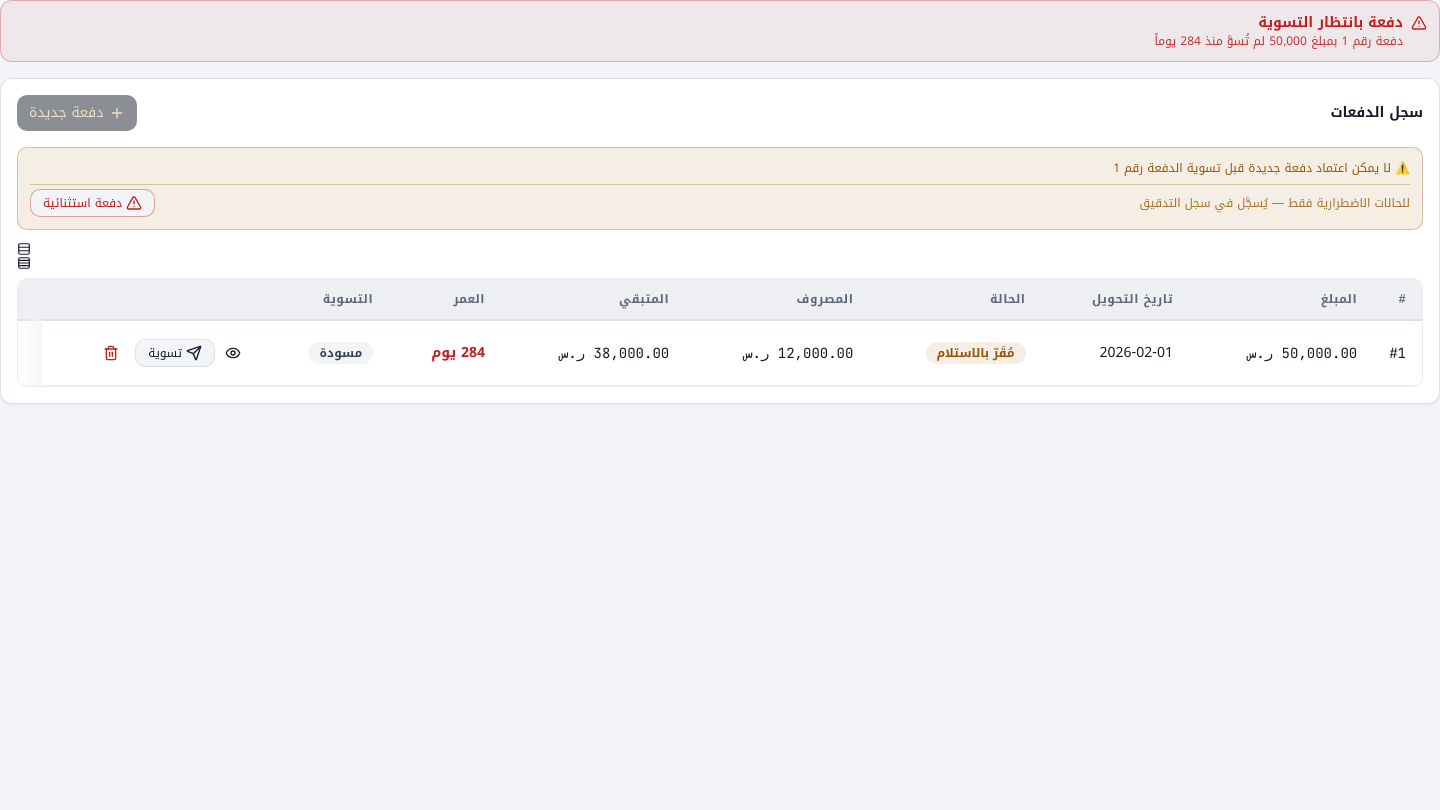
Test case: the settlement dialog › reconciles received against spent and the cash typed in
Click the button "تسوية" at (175, 353), box [135, 339, 215, 367]
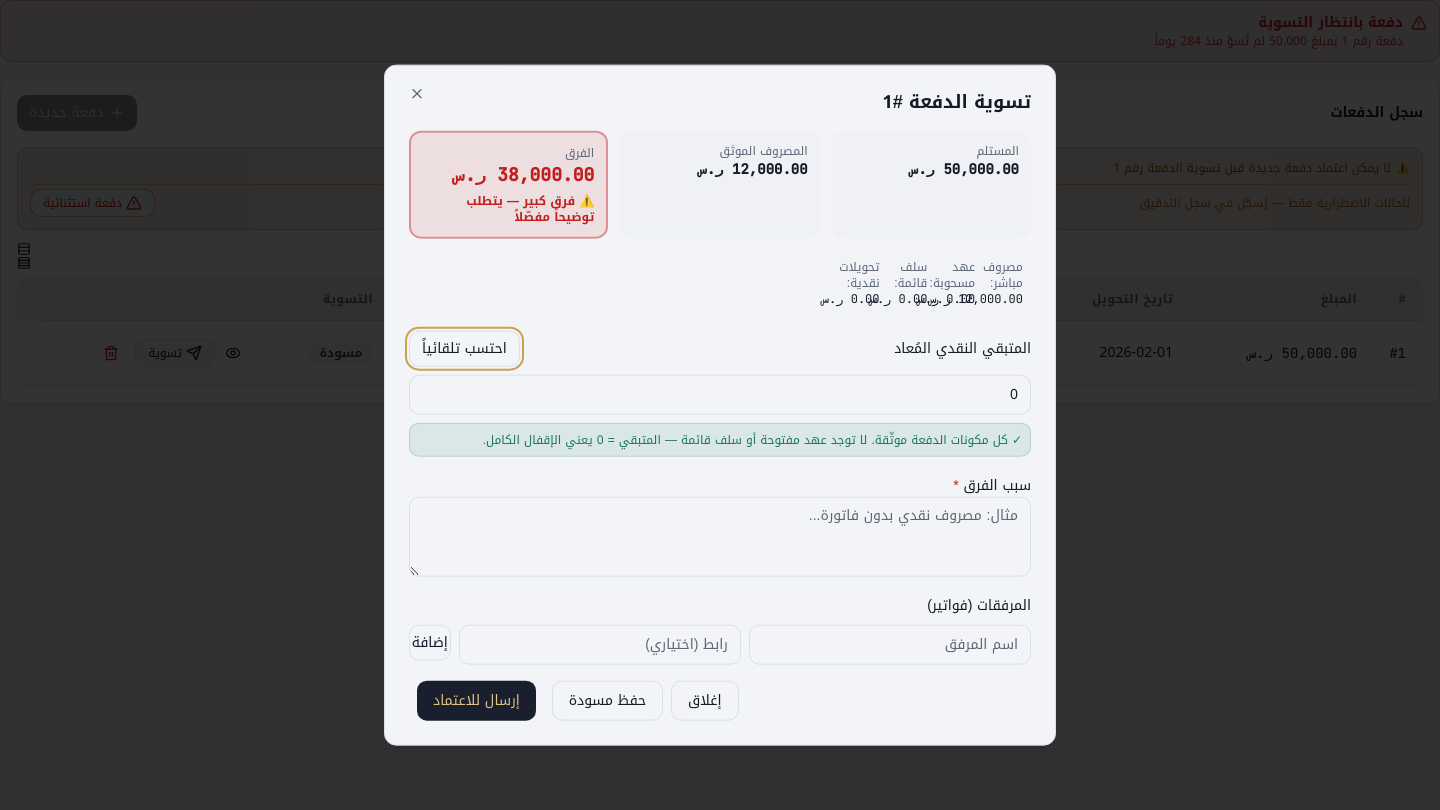
Expected: the cell "50,000.00 ر.س" is shown, [1189, 320, 1373, 386]
Expected: the cell "38,000.00 ر.س" is shown, [501, 320, 685, 386]
Replace the text in the number field with "38000" at (720, 394), box [409, 374, 1031, 414]
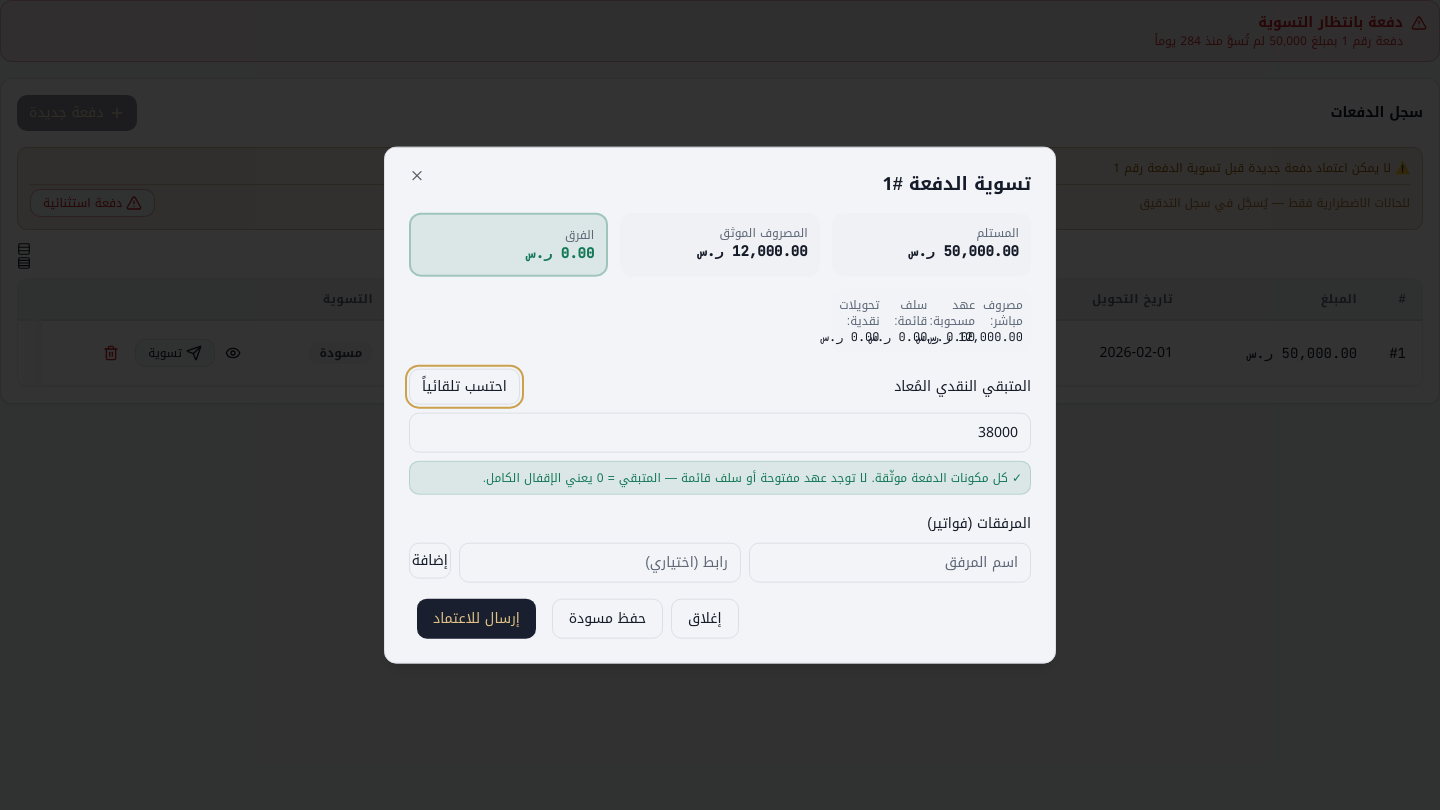
Expected: the text "0.00 ر.س" next to "الفرق" is shown, [527, 243, 594, 261]
